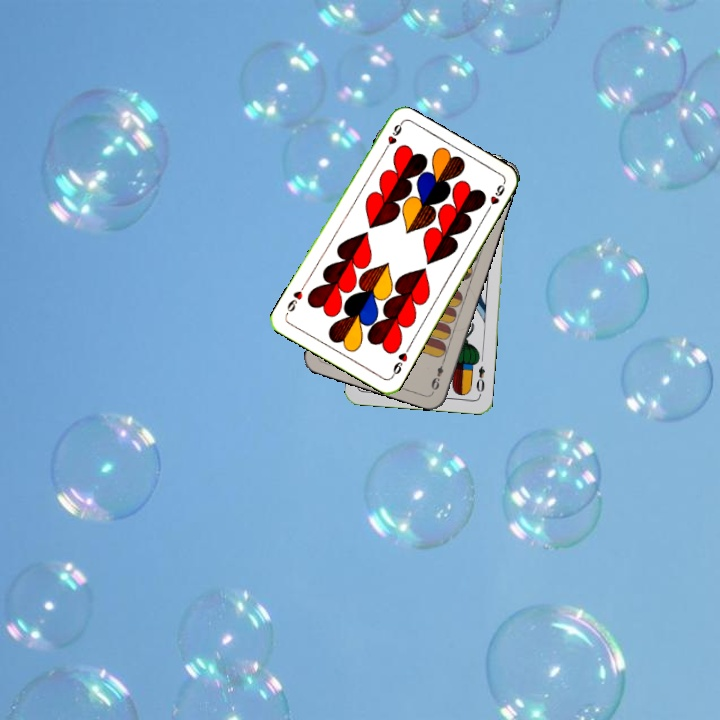E9: (427, 355, 448, 393)
EO: (472, 362, 488, 398)
H9: (378, 120, 404, 157), (387, 342, 412, 380)
